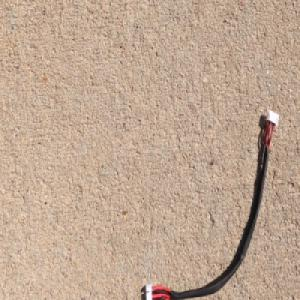Wire: (144, 107, 280, 300)
